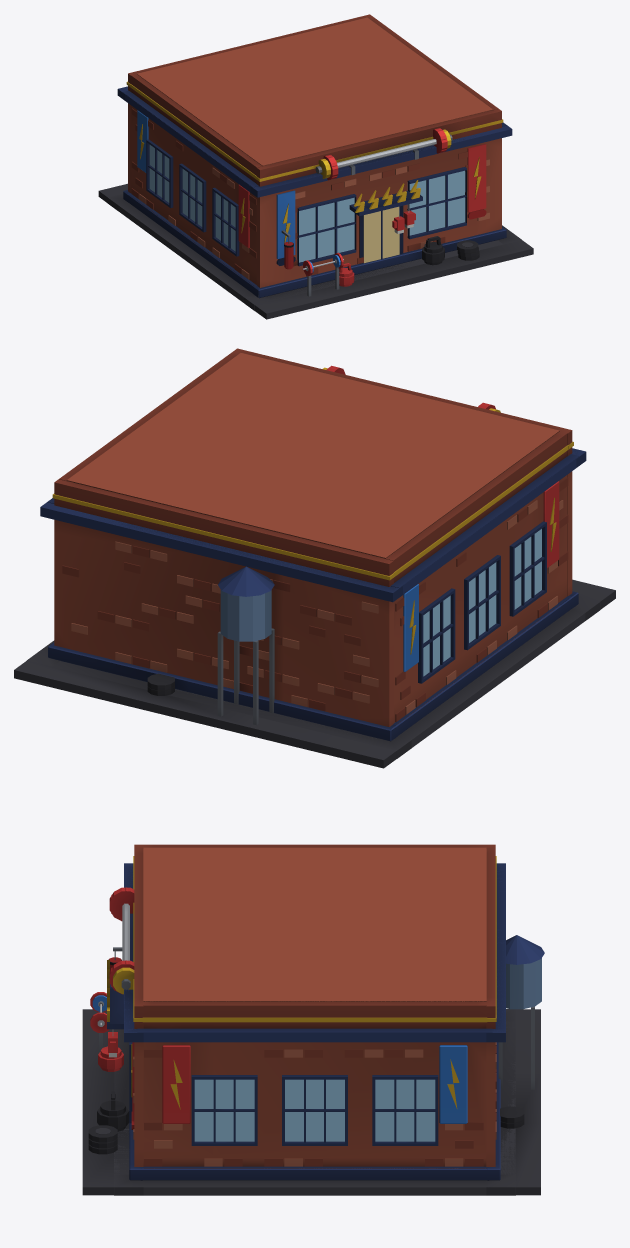
File: BuffRatFloor.fbx
3 renders of one model, top to bottom at view 1: azimuth 30°, elevation 25°; view 2: azimuth 150°, elevation 25°; view 3: azimuth 270°, elevation 25°, orthographic. The views are drawn at different scales.
Parts seen in each view (by area): view 1: BR_S_All, BR_F_Rings, BR_F_Smooth, BR_F_Glass, BR_F_Quiet, BR_F_Props; view 2: BR_F_Rings, BR_S_All, BR_F_Smooth, BR_F_Quiet, BR_F_Props, BR_F_Glass; view 3: BR_S_All, BR_F_Rings, BR_F_Smooth, BR_F_Quiet, BR_F_Glass, BR_F_Props.
Part boxes in pixels (box(x1,y1,x2,y2)): BR_S_All: box(108, 17, 520, 310); BR_F_Rings: box(117, 14, 511, 297); BR_F_Smooth: box(98, 81, 533, 319); BR_F_Glass: box(149, 145, 465, 263); BR_F_Quiet: box(99, 183, 533, 313); BR_F_Props: box(284, 128, 479, 284); BR_F_Rings: box(47, 348, 586, 741); BR_S_All: box(40, 353, 600, 758); BR_F_Smooth: box(14, 441, 615, 768); BR_F_Quiet: box(14, 579, 615, 760); BR_F_Props: box(147, 365, 500, 695); BR_F_Glass: box(423, 529, 541, 676); BR_S_All: box(111, 847, 515, 1195); BR_F_Rings: box(107, 844, 505, 1179); BR_F_Smooth: box(82, 856, 540, 1195); BR_F_Quiet: box(82, 1009, 540, 1187); BR_F_Glass: box(194, 1079, 435, 1141); BR_F_Props: box(88, 887, 544, 1154).
Size of the model in its own units: 60 by 20 by 60.
